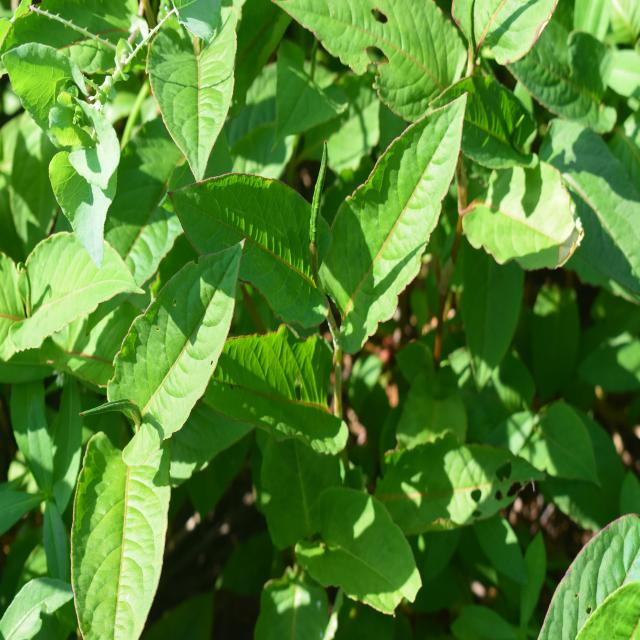Chinese_knotweed: (180, 109, 464, 487), (43, 189, 237, 596)
